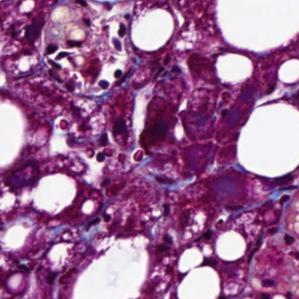inflammation: (83, 129, 120, 165), (39, 36, 84, 62)
